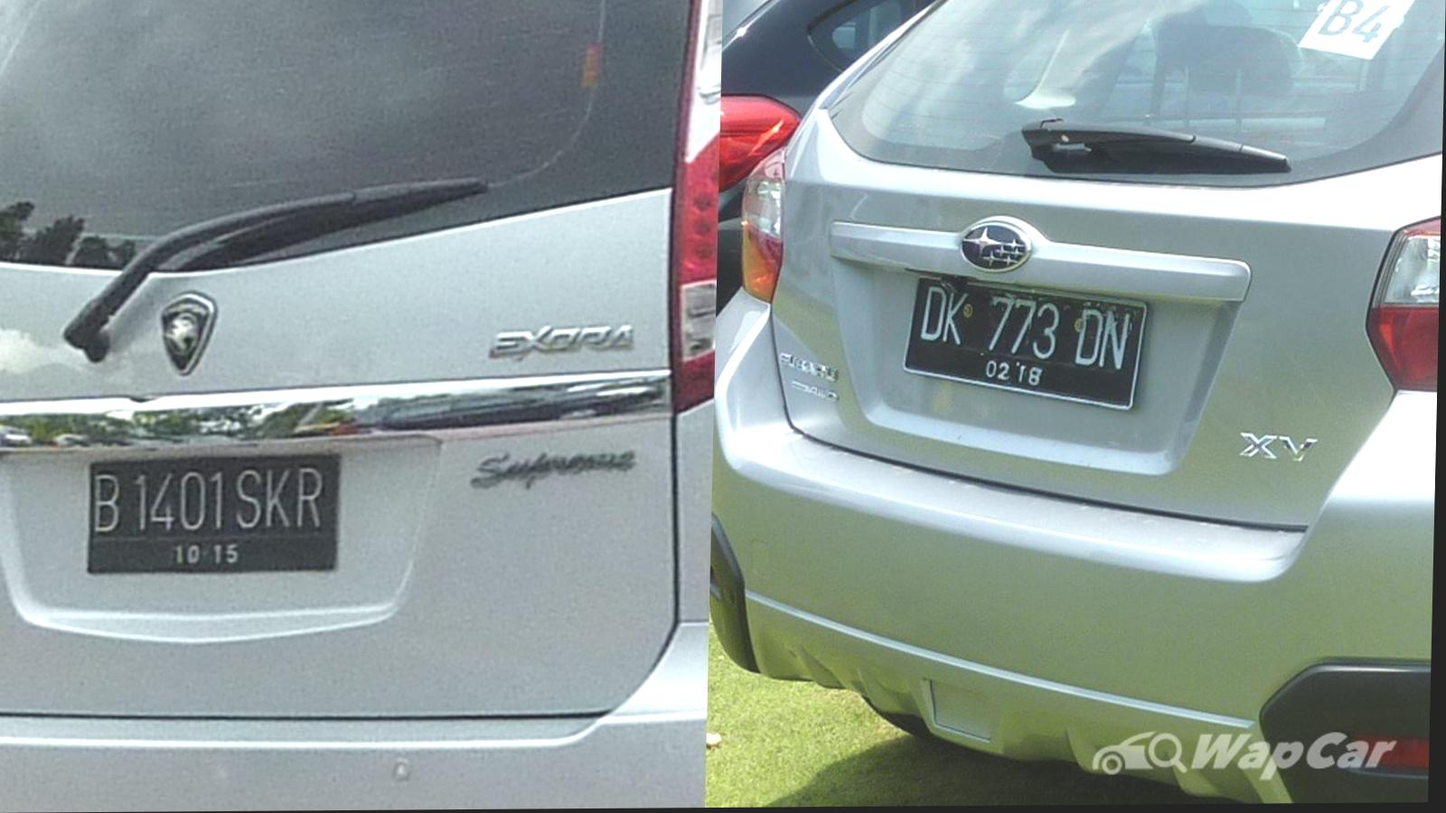License_Plate: (890, 244, 1169, 430), (76, 431, 374, 581)
